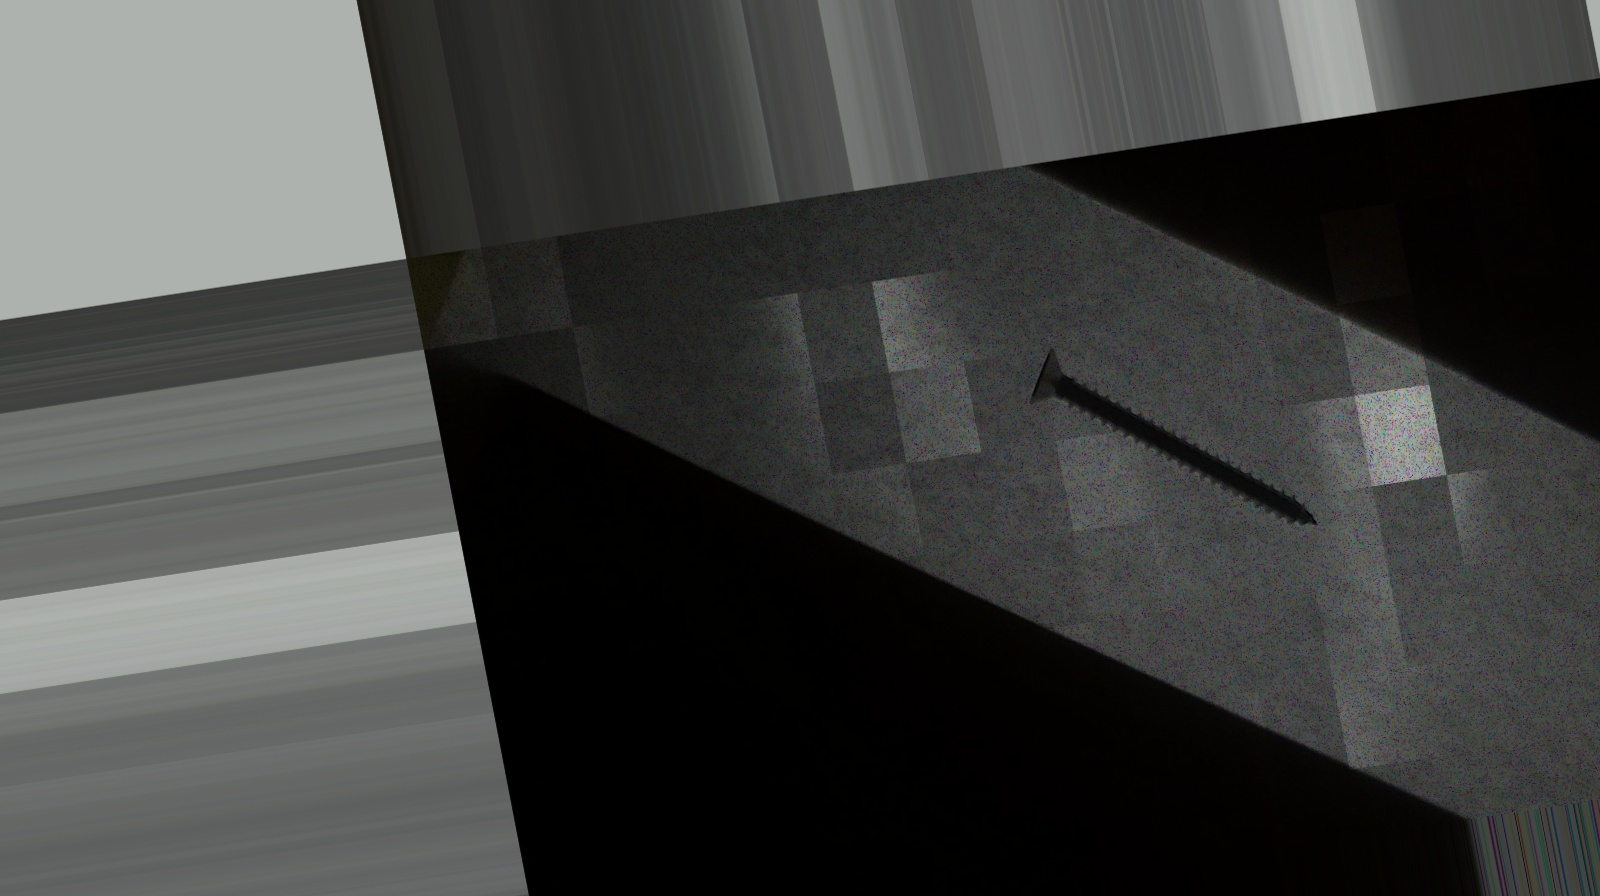S002: (1005, 297, 1332, 573)
